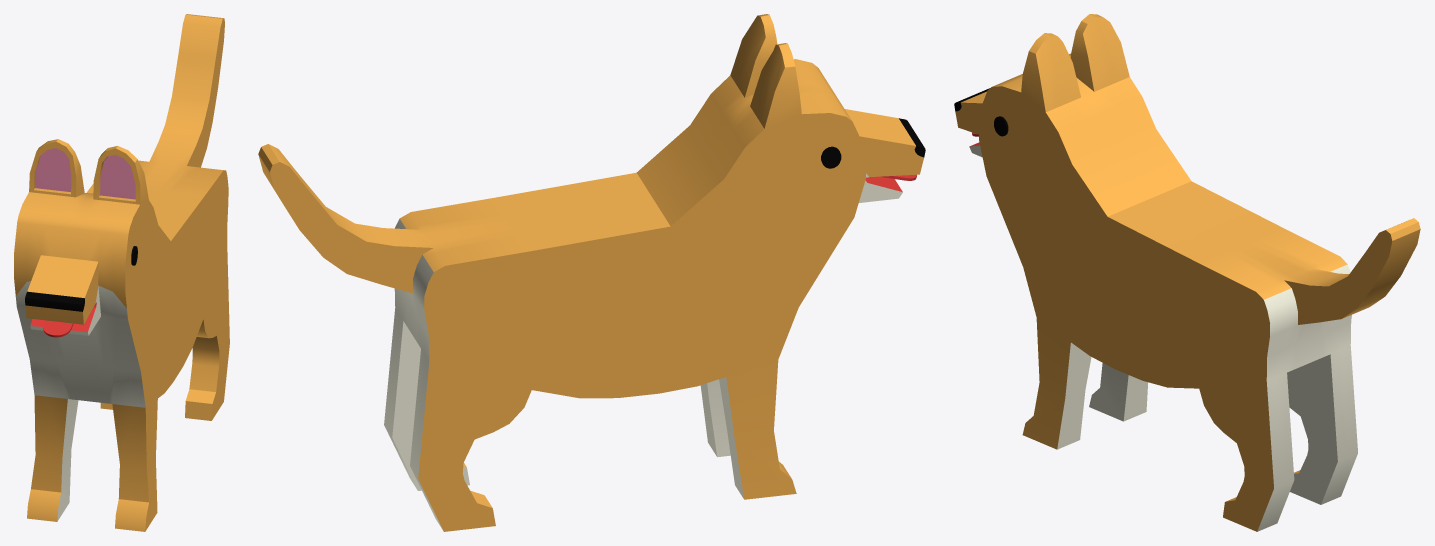
Rendered from dog.glb.
3 views of the same model, side by side, from view 1: azimuth 30°, elevation 25°; view 2: azimuth 150°, elevation 25°; view 3: azimuth 270°, elevation 25° (orthographic). The views are drawn at different scales.
Visible parts, largest first — view 1: Plane, Cube; view 2: Plane; view 3: Plane.
Part boxes in pixels (x1,y1,x2,y2): Plane: (14, 14, 229, 531); Cube: (43, 320, 73, 337); Plane: (258, 14, 925, 531); Plane: (954, 14, 1420, 531).
Bounding box in the file's own units: 2.06 × 1.91 × 2.06.
Materials: 1 (1 with a texture image).
